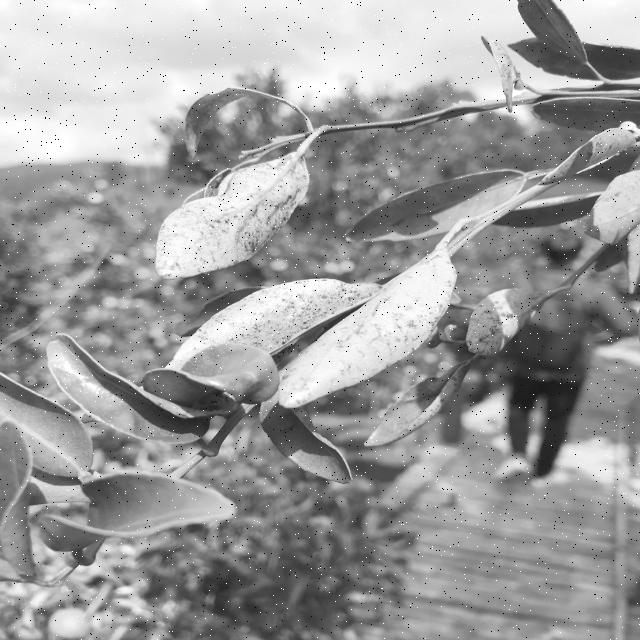melanose: (268, 253, 466, 417), (136, 142, 315, 280), (154, 272, 379, 375)
